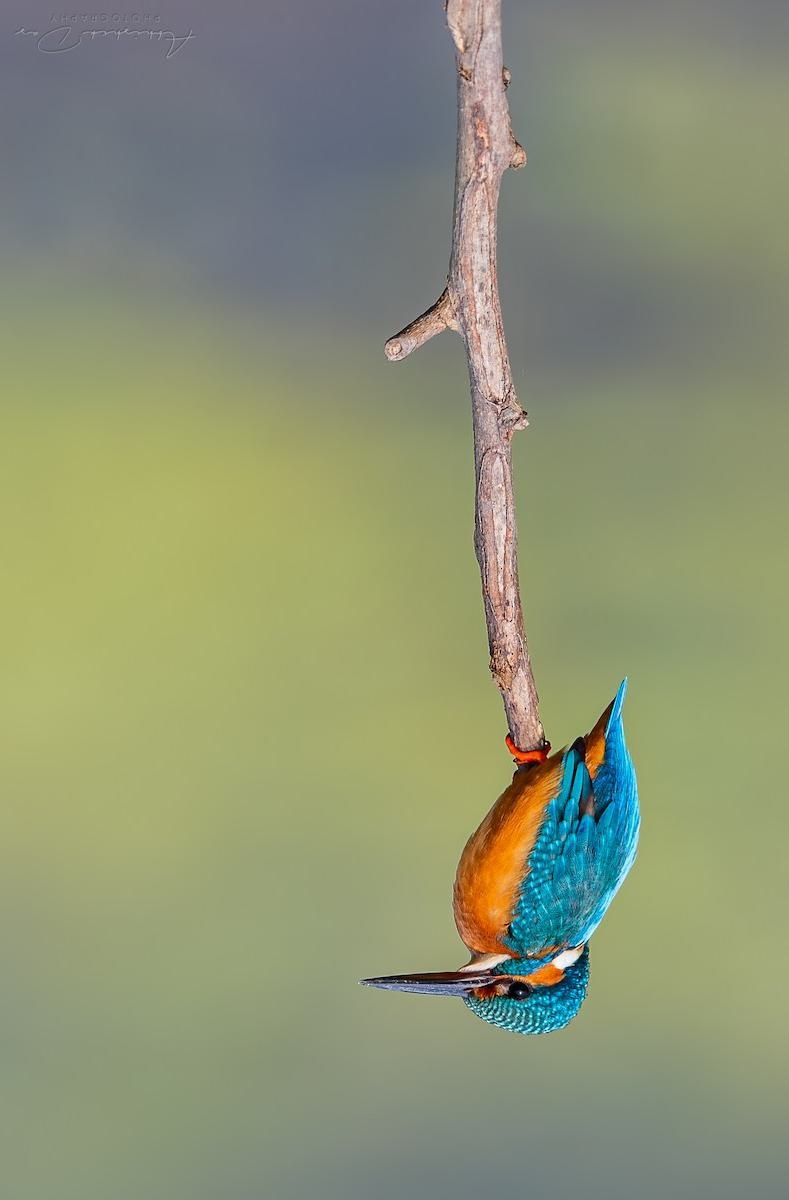kingfisher: (373, 670, 676, 1057)
